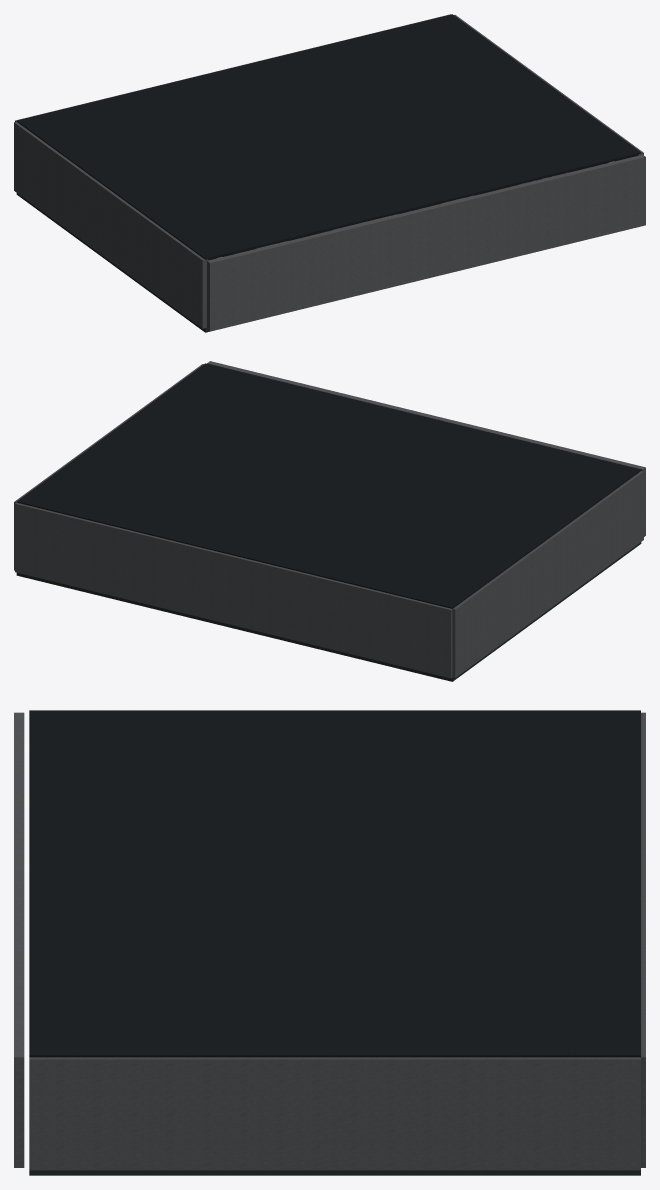
The model's file is warehouse.glb.
3 views of the same model, one above another, from view 1: azimuth 30°, elevation 25°; view 2: azimuth 150°, elevation 25°; view 3: azimuth 270°, elevation 25° (orthographic). The views are drawn at different scales.
Visible parts, largest first — view 1: ceiling, wall.003, wall, COL_floor, wall.001, wall.002; view 2: ceiling, wall.002, wall, COL_floor, wall.003, wall.001; view 3: ceiling, wall.001, wall.003, COL_floor, wall.002.
Boxes of the visible parts, x1,y1,x2,y2 form: ceiling: [16, 14, 641, 259]; wall.003: [207, 154, 645, 331]; wall: [14, 121, 208, 328]; COL_floor: [16, 172, 569, 332]; wall.001: [454, 15, 643, 172]; wall.002: [15, 14, 450, 121]; ceiling: [16, 363, 641, 608]; wall.002: [15, 502, 452, 678]; wall: [452, 471, 643, 677]; COL_floor: [16, 542, 641, 681]; wall.003: [207, 361, 645, 536]; wall.001: [14, 364, 203, 570]; ceiling: [29, 710, 640, 1057]; wall.001: [29, 1057, 640, 1170]; wall.003: [14, 712, 24, 1167]; COL_floor: [29, 1170, 640, 1175]; wall.002: [641, 712, 645, 1167].
Bounding box in the file's own units: 40.5 × 6.5 × 31.
12 materials, 4 textured.
